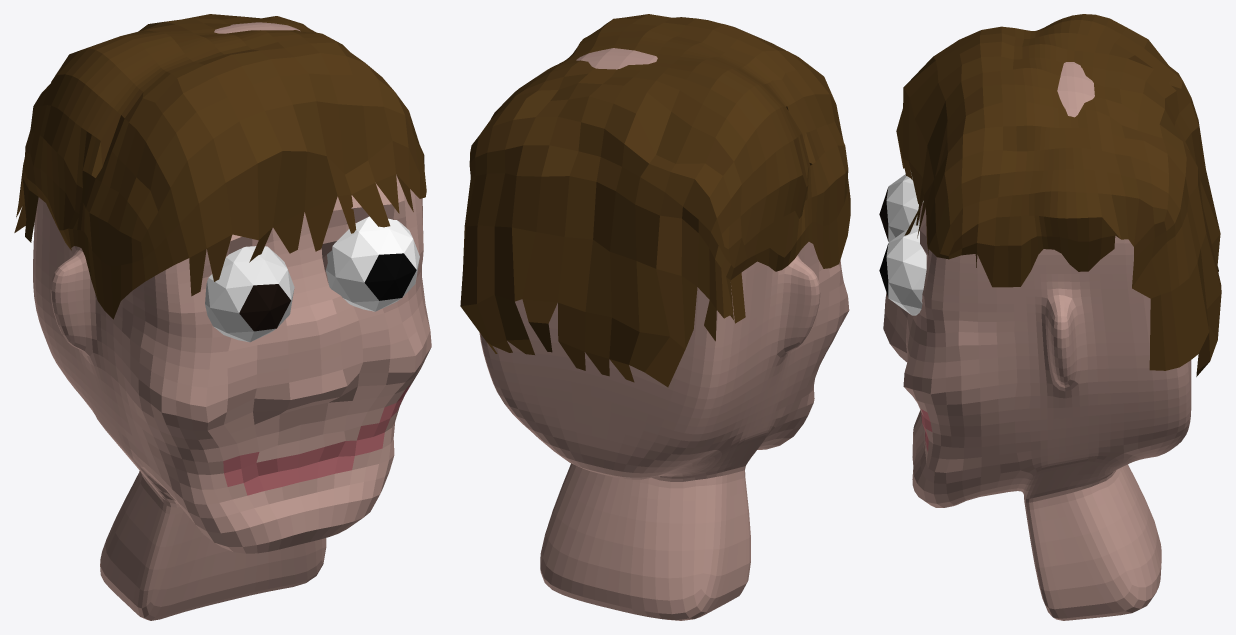
The model's file is jimhead1.glb.
3 renders of one model, left to right at view 1: azimuth 30°, elevation 25°; view 2: azimuth 150°, elevation 25°; view 3: azimuth 270°, elevation 25°, orthographic. The views are drawn at different scales.
Visible parts, largest first — view 1: Head, Hair, LeftEye, RightEye; view 2: Hair, Head; view 3: Head, Hair, LeftEye, RightEye.
Part boxes in pixels (left/top/right/bottom): Head: left=33, top=22, right=431, bottom=620; Hair: left=14, top=14, right=426, bottom=319; LeftEye: left=325, top=216, right=419, bottom=311; RightEye: left=205, top=246, right=294, bottom=342; Hair: left=460, top=14, right=850, bottom=387; Head: left=479, top=48, right=849, bottom=620; Head: left=883, top=62, right=1191, bottom=620; Hair: left=896, top=14, right=1221, bottom=376; LeftEye: left=879, top=225, right=926, bottom=315; RightEye: left=879, top=172, right=923, bottom=241.
Bounding box in the file's own units: 0.5427 × 0.8631 × 0.5009.
